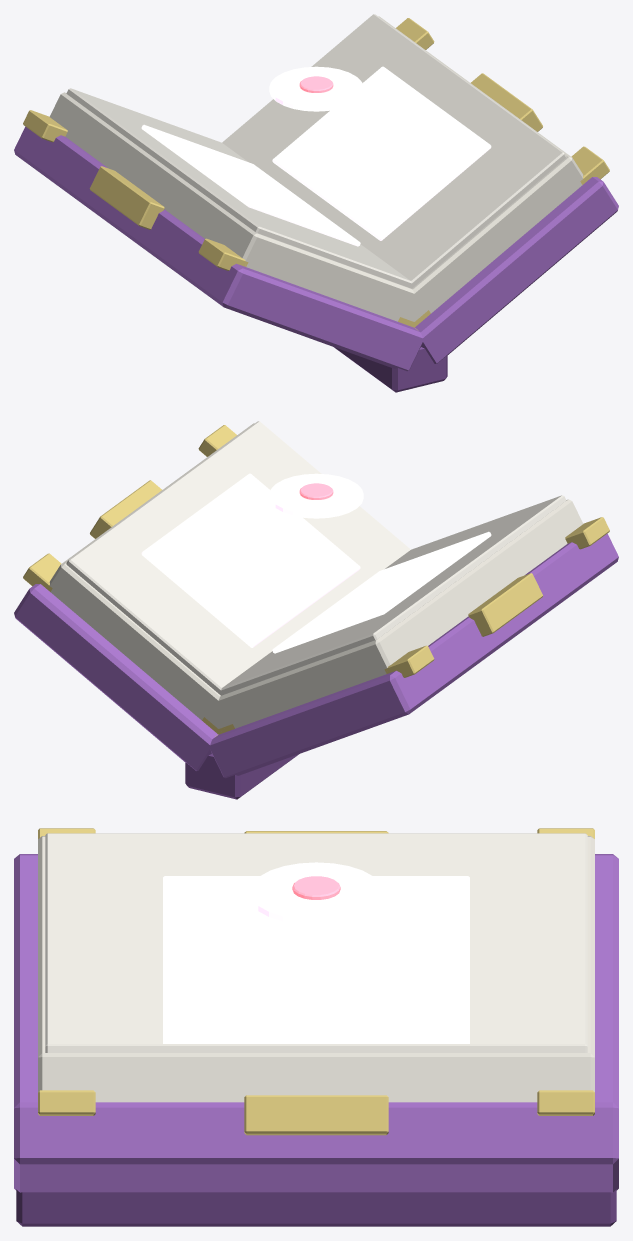
The model's file is RiftBook.glb.
3 views of the same model, one above another, from view 1: azimuth 30°, elevation 25°; view 2: azimuth 150°, elevation 25°; view 3: azimuth 270°, elevation 25° (orthographic). The views are drawn at different scales.
Parts seen in each view (by area): view 1: FTF_Tool_Riftbook_Open_v5_Static, FloatingRuneMesh; view 2: FTF_Tool_Riftbook_Open_v5_Static, FloatingRuneMesh; view 3: FTF_Tool_Riftbook_Open_v5_Static, FloatingRuneMesh.
Boxes of the visible parts, x1,y1,x2,y2 form: FTF_Tool_Riftbook_Open_v5_Static: (14,14,618,392); FloatingRuneMesh: (269,66,363,111); FTF_Tool_Riftbook_Open_v5_Static: (14,421,618,799); FloatingRuneMesh: (269,473,363,518); FTF_Tool_Riftbook_Open_v5_Static: (14,828,618,1226); FloatingRuneMesh: (249,862,383,926).
Size of the model in its own units: 0.2764 by 0.149 by 0.252.
